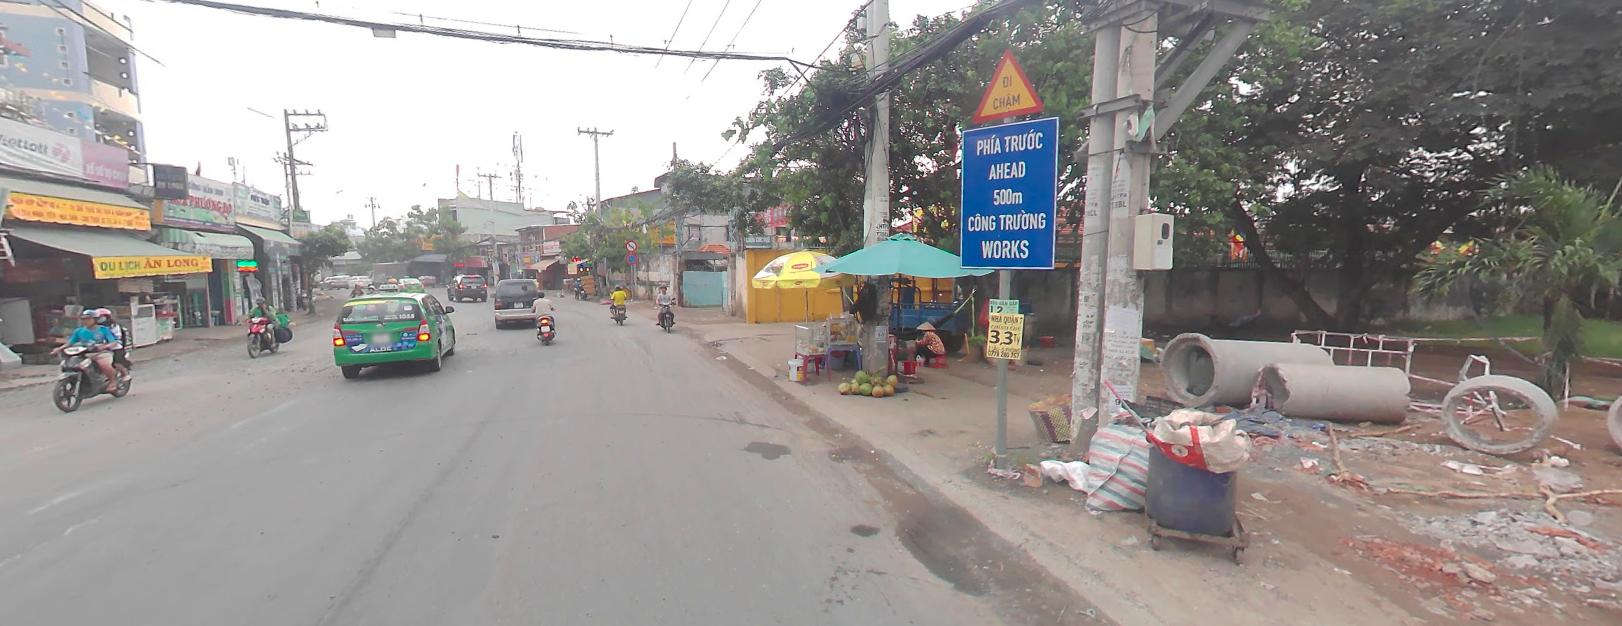Cam con lai: (625, 238, 636, 249)
Cam dung va do: (625, 252, 637, 263)
Nguy hiem: (973, 47, 1044, 121)
